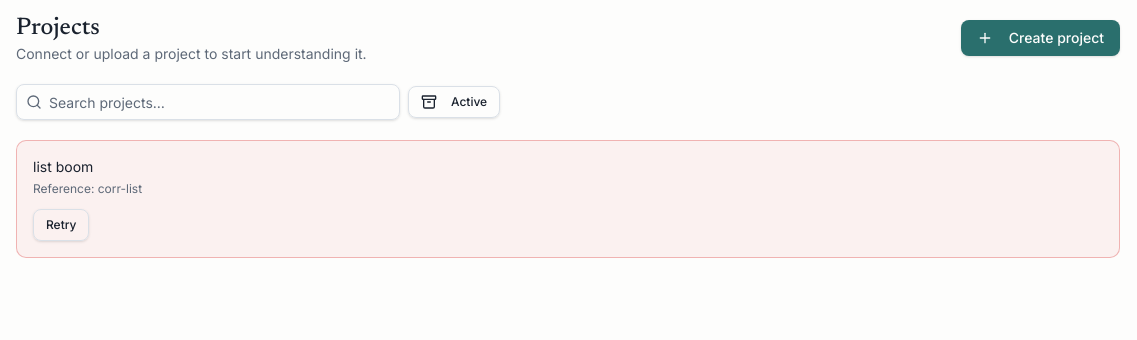
Test: ProjectsPage › shows list error with correlation and retry
This screenshot has width=1137, height=340.
Expected: the message shows "list boom", 33,158 -> 93,175
Expected: the message shows "corr-list", 33,181 -> 142,196
Click the button "Retry".
click(61, 225)  # box 33,209 -> 90,241
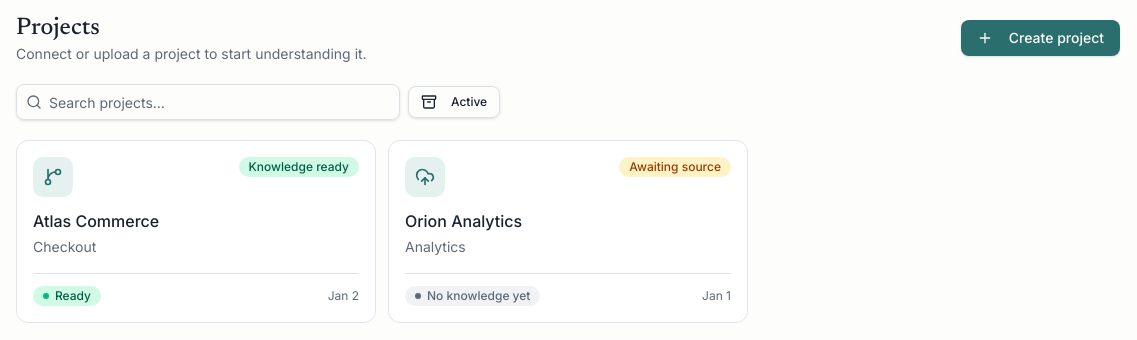
Now the heading "Atlas Commerce" is shown, box 33,211 -> 159,231
